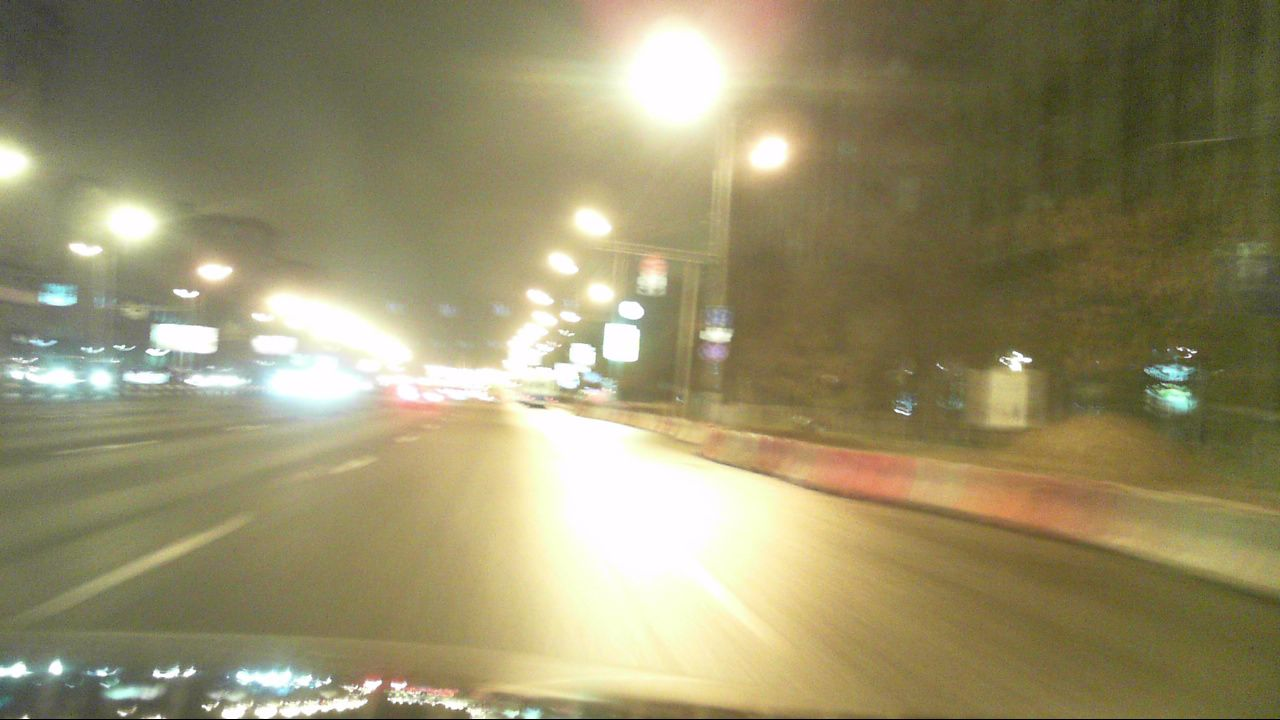No Parking: (705, 344, 724, 362)
